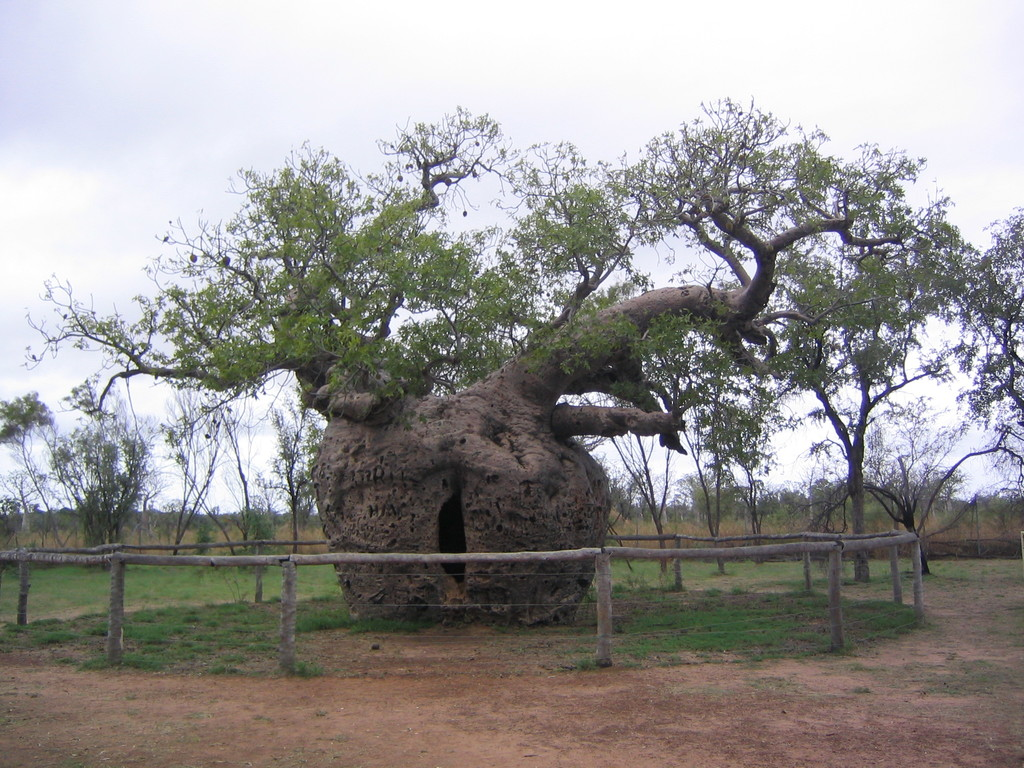Tree: (0, 94, 1023, 629)
